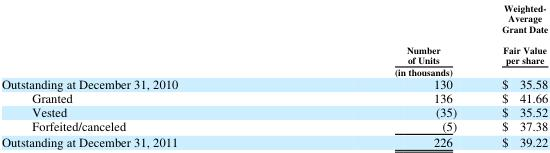table: (1, 0, 547, 149)
table column: (1, 0, 285, 149), (285, 0, 478, 149), (478, 0, 547, 149)
table column header: (1, 0, 547, 76)
table row: (1, 0, 547, 76), (1, 133, 547, 149), (1, 118, 547, 133), (1, 76, 547, 90), (1, 90, 547, 104), (1, 104, 547, 118)
